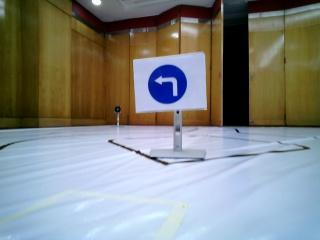left: (135, 57, 213, 113)
